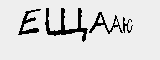А: (88, 10, 107, 41), (110, 11, 122, 39)
Е: (17, 7, 42, 38)
Щ: (43, 5, 86, 41)
Ю: (120, 15, 133, 37)
